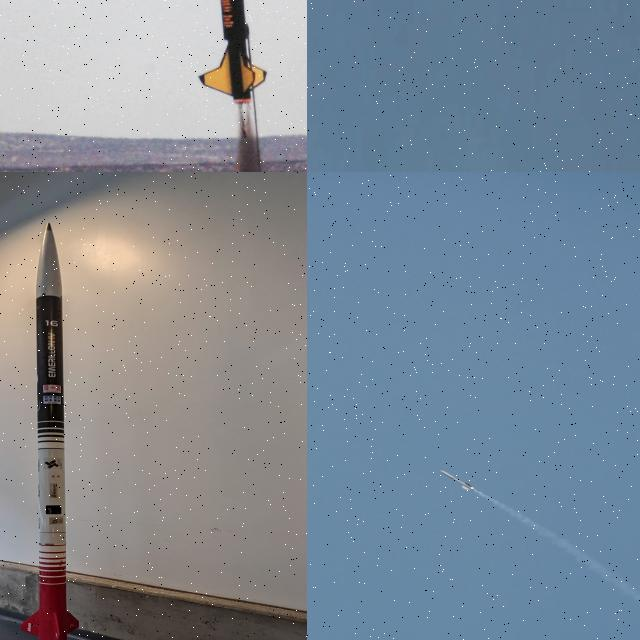Rocket: (21, 223, 79, 640), (196, 0, 268, 106), (440, 470, 475, 490)
